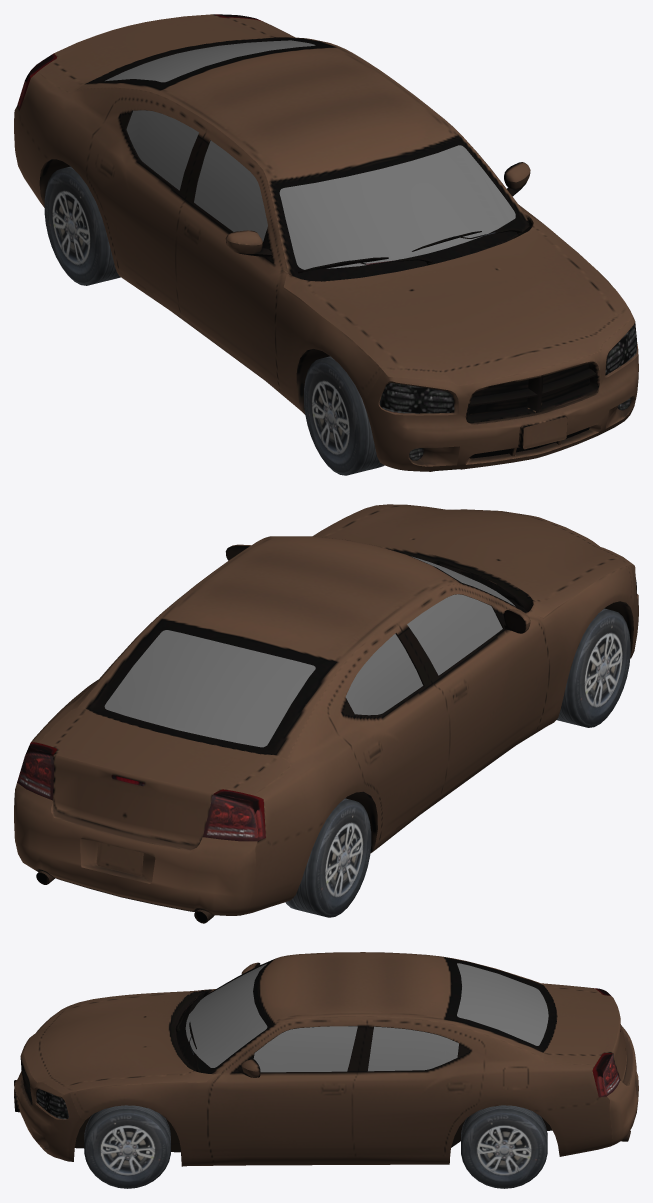
Rendered from PassengerCar.glb.
3 renders of one model, top to bottom at view 1: azimuth 30°, elevation 25°; view 2: azimuth 150°, elevation 25°; view 3: azimuth 270°, elevation 25°, orthographic. The views are drawn at different scales.
Parts seen in each view (by area): view 1: SM_CP_Car_06; view 2: SM_CP_Car_06; view 3: SM_CP_Car_06.
Boxes of the visible parts, box(x1,y1,x2,y2) form: SM_CP_Car_06: box(14, 14, 638, 475); SM_CP_Car_06: box(14, 504, 638, 923); SM_CP_Car_06: box(14, 952, 638, 1188).
Bounding box in the file's own units: 2.05 × 1.46 × 5.07.
Materials: 1 (1 with a texture image).
